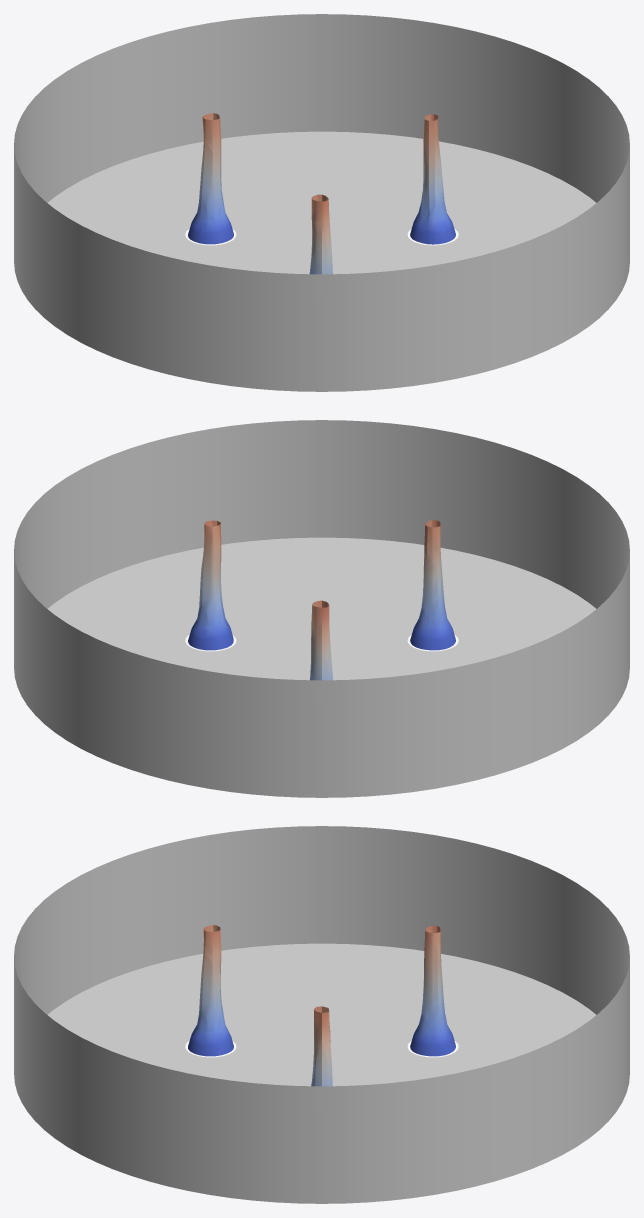
The model's file is ladle.glb.
3 views of the same model, one above another, from view 1: azimuth 30°, elevation 25°; view 2: azimuth 150°, elevation 25°; view 3: azimuth 270°, elevation 25° (orthographic).
Parts seen in each view (by area): view 1: ladle1, ladle0; view 2: ladle1, ladle0; view 3: ladle1, ladle0.
Part boxes in pixels (x1,y1,x2,y2): ladle1: (14,14,629,391); ladle0: (188,113,455,274); ladle1: (14,420,629,797); ladle0: (188,520,455,680); ladle1: (14,826,629,1203); ladle0: (188,925,455,1086).
Size of the model in its own units: 1.2 by 0.2526 by 1.2.
